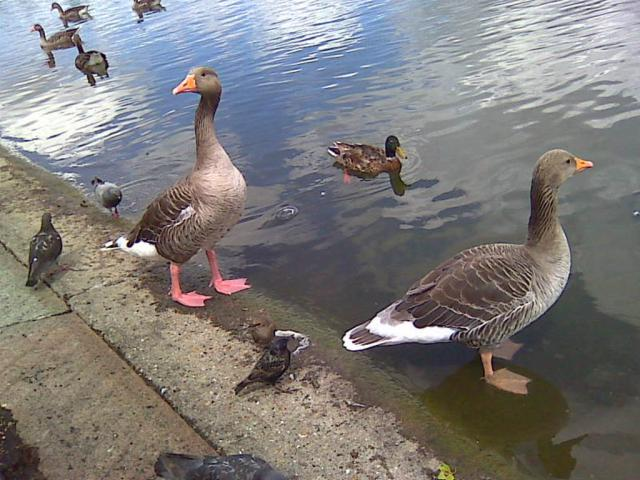Bird: (341, 147, 595, 395), (97, 65, 250, 310), (233, 335, 304, 396), (153, 451, 292, 479), (328, 134, 409, 182), (27, 211, 72, 287), (0, 403, 42, 479), (28, 23, 82, 52), (90, 173, 123, 219), (76, 30, 108, 72), (51, 1, 90, 22), (131, 0, 160, 13)
